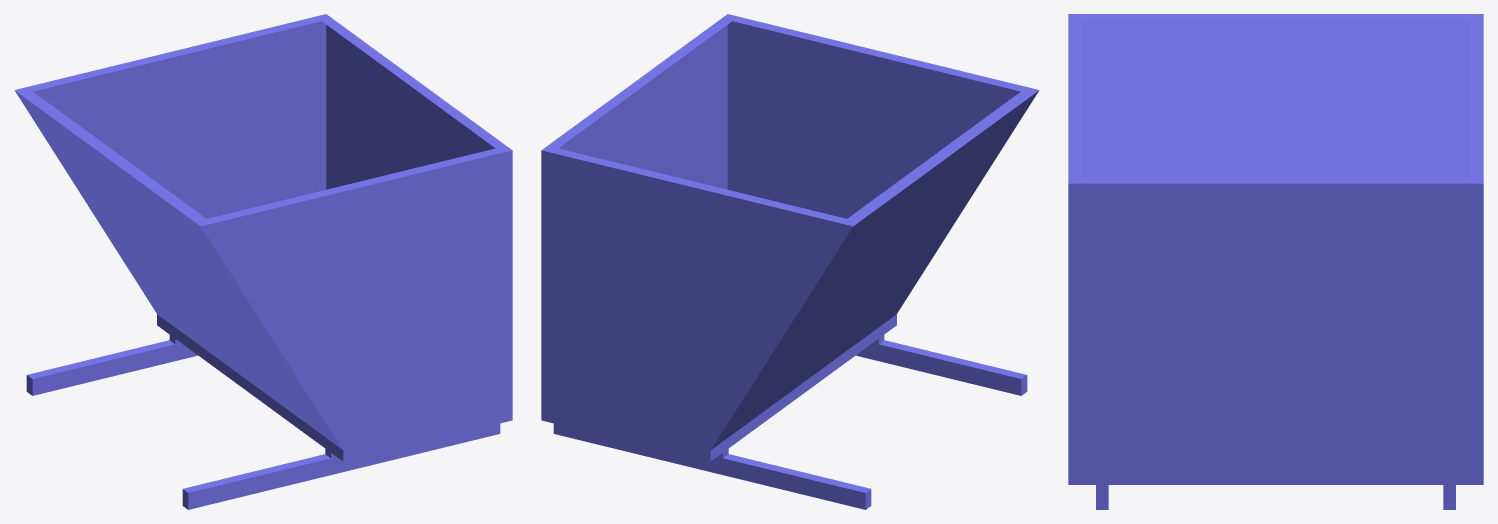
The model's file is bleue 1.5.glb.
3 renders of one model, left to right at view 1: azimuth 30°, elevation 25°; view 2: azimuth 150°, elevation 25°; view 3: azimuth 270°, elevation 25°, orthographic. The views are drawn at different scales.
Parts seen in each view (by area): view 1: imagetostl_mesh1, imagetostl_mesh19, imagetostl_mesh0, imagetostl_mesh34, imagetostl_mesh33, imagetostl_mesh16, imagetostl_mesh12, imagetostl_mesh28, imagetostl_mesh27, imagetostl_mesh7, imagetostl_mesh9; view 2: imagetostl_mesh19, imagetostl_mesh1, imagetostl_mesh0, imagetostl_mesh34, imagetostl_mesh33, imagetostl_mesh14, imagetostl_mesh15, imagetostl_mesh28, imagetostl_mesh29, imagetostl_mesh9, imagetostl_mesh7; view 3: imagetostl_mesh34, imagetostl_mesh0, imagetostl_mesh33, imagetostl_mesh31.
Boxes of the visible parts, x1,y1,x2,y2 form: imagetostl_mesh1: [201, 150, 512, 450]; imagetostl_mesh19: [33, 21, 326, 218]; imagetostl_mesh0: [14, 90, 342, 449]; imagetostl_mesh34: [326, 25, 495, 189]; imagetostl_mesh33: [15, 14, 511, 226]; imagetostl_mesh16: [188, 423, 500, 509]; imagetostl_mesh12: [32, 339, 197, 395]; imagetostl_mesh28: [157, 314, 343, 461]; imagetostl_mesh27: [343, 409, 512, 461]; imagetostl_mesh7: [27, 340, 174, 378]; imagetostl_mesh9: [183, 454, 330, 492]; imagetostl_mesh19: [541, 150, 852, 450]; imagetostl_mesh1: [727, 21, 1020, 218]; imagetostl_mesh0: [711, 90, 1039, 449]; imagetostl_mesh34: [558, 25, 727, 189]; imagetostl_mesh33: [542, 14, 1038, 226]; imagetostl_mesh14: [553, 423, 865, 509]; imagetostl_mesh15: [856, 339, 1021, 395]; imagetostl_mesh28: [710, 314, 896, 461]; imagetostl_mesh29: [541, 409, 710, 461]; imagetostl_mesh9: [879, 340, 1026, 378]; imagetostl_mesh7: [723, 454, 870, 492]; imagetostl_mesh34: [1068, 183, 1483, 472]; imagetostl_mesh0: [1082, 20, 1469, 177]; imagetostl_mesh33: [1068, 14, 1483, 183]; imagetostl_mesh31: [1068, 472, 1483, 484].
Size of the model in its own units: 1.14 by 1.02 by 1.18.
